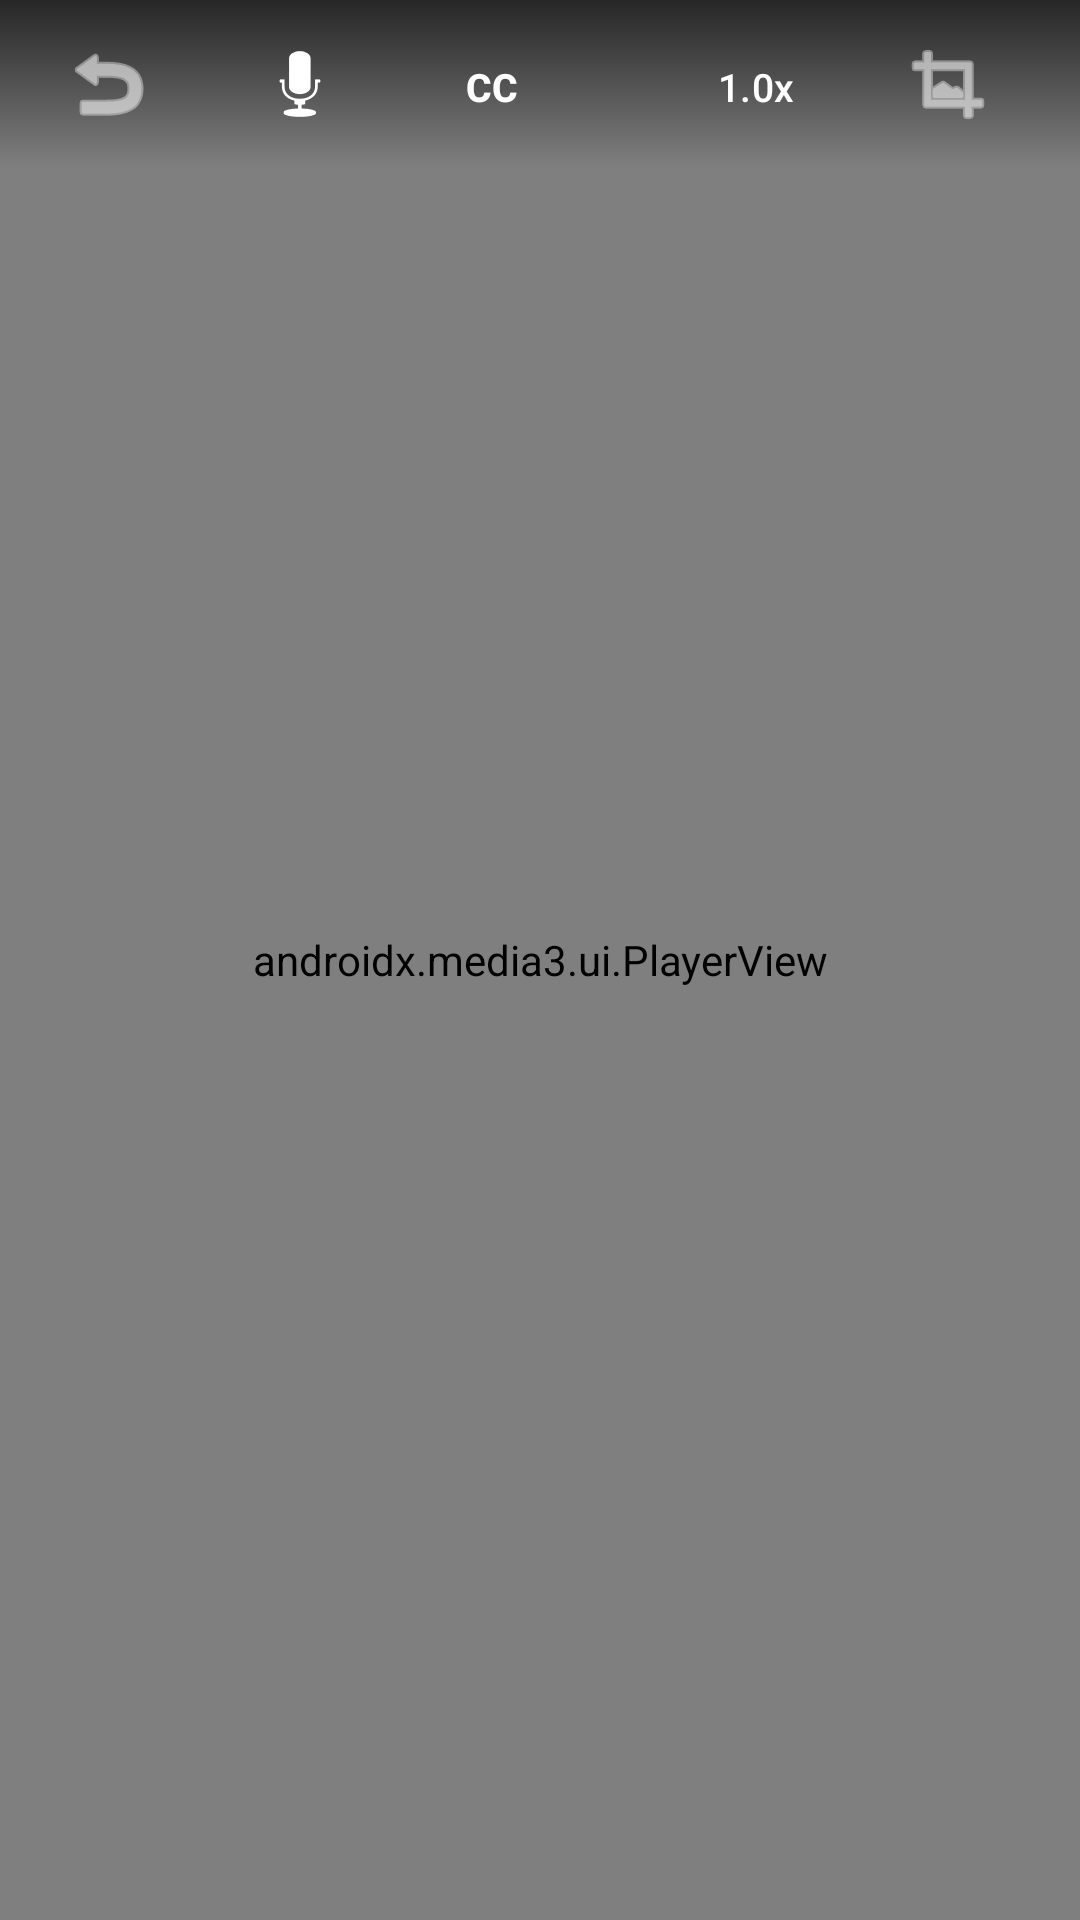

Icons on this 1080x1920 Android screen, each with the point to tap as [x,y]:
Aspect Ratio: [948,84]
Back: [108,84]
